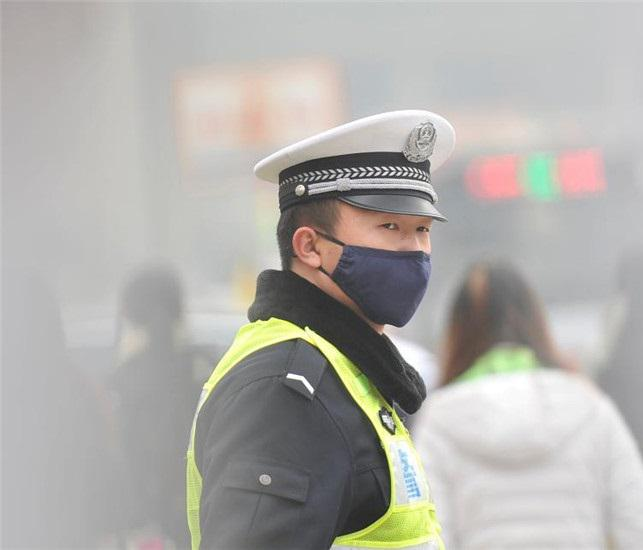OK: (314, 200, 437, 323)
